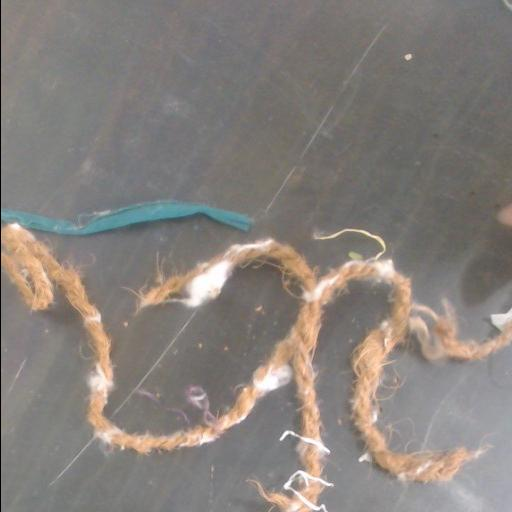cloth: (1, 201, 250, 234)
conveyor belt: (1, 0, 512, 432), (1, 277, 297, 511), (316, 285, 512, 511)
jute: (1, 223, 512, 511)
